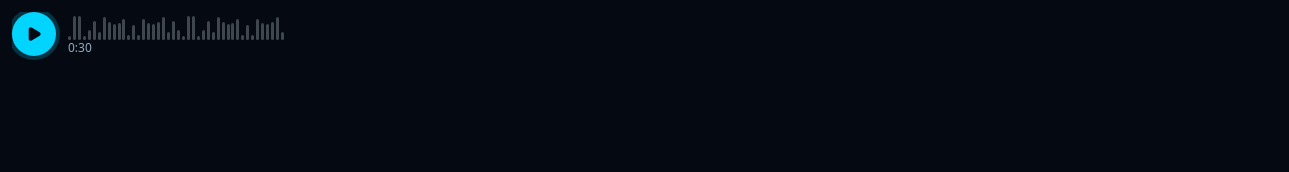
Test: shares playback between the bubble and the dashboard after leaving the chat
Later steps or results of the test are not shown.
Click the button named "Play voice message".
click(34, 34)  # box [12,12,56,56]
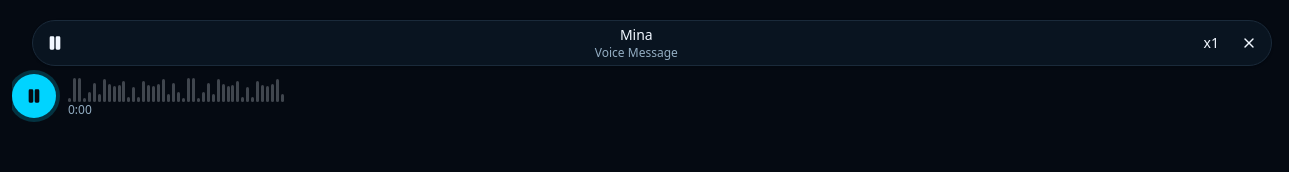
Result: the text "Mina" is shown at [620,25,653,44]
Result: the text "Voice Message" is shown at [595,44,678,61]
Result: the number of buttons named "Pause voice message" is 2 at [33,21,77,65]; [12,74,56,118]
